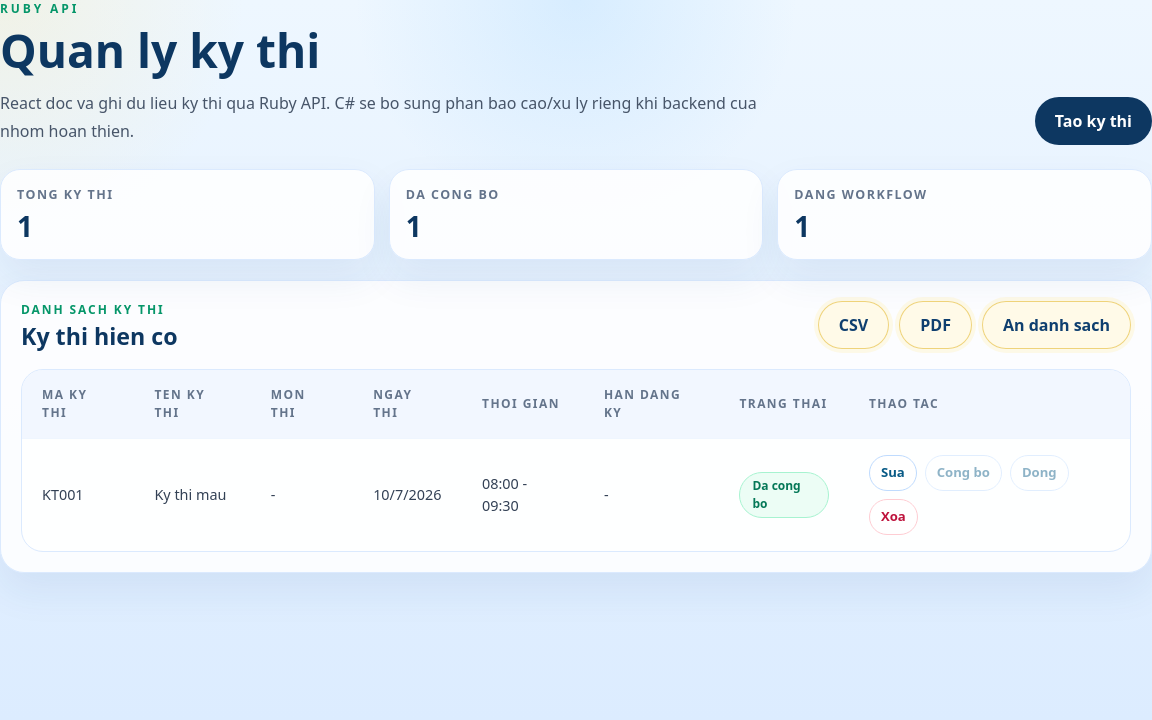
Test case: ExamsPage › loads exams and exposes the create form
Expected: the heading "Quan ly ky thi" is shown, [0, 19, 320, 82]
Expected: the text "Ky thi mau" is shown, [134, 439, 251, 551]
Step 1. Click the button "Tao ky thi" → x=1093, y=121, box [1035, 97, 1151, 145]
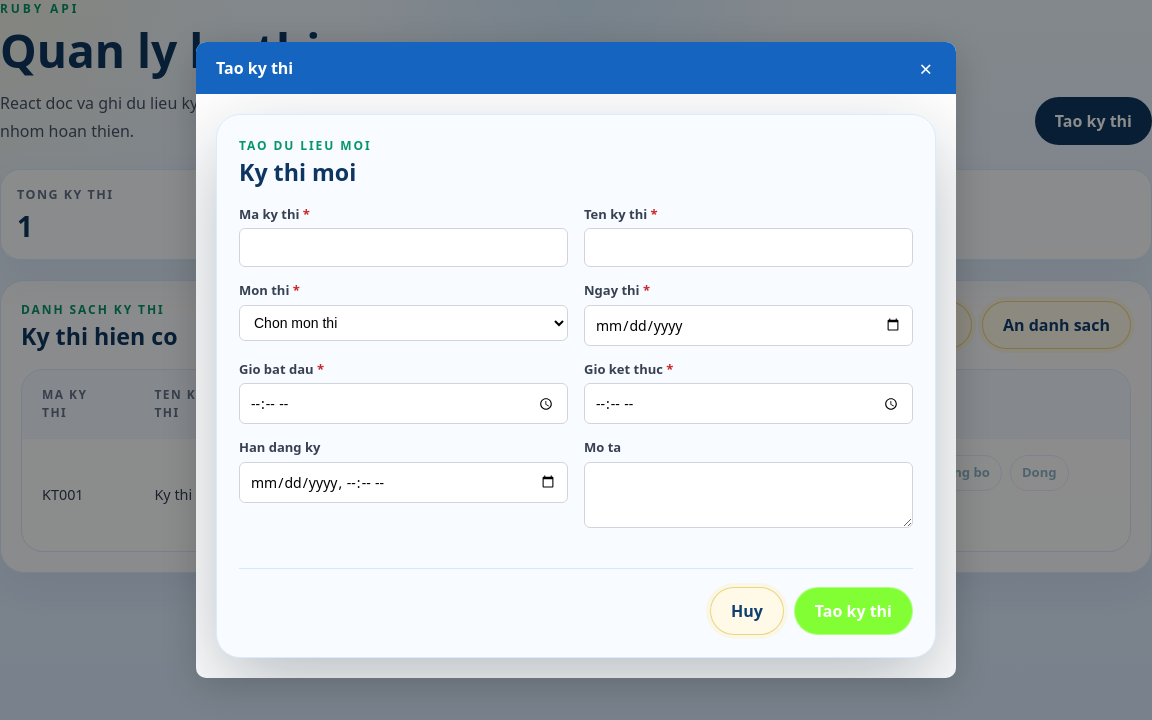
Expected: the heading "Ky thi moi" is shown, [239, 159, 372, 187]
Expected: the 1st field named "MaKyThi" is shown, [239, 228, 568, 267]
Expected: the dropdown named "MonThiID" is shown, [239, 305, 568, 341]
